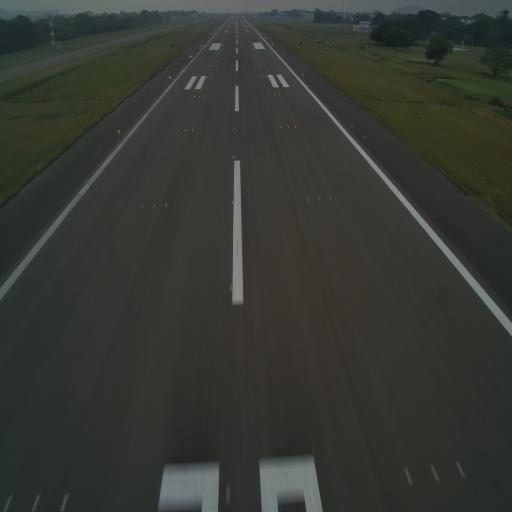off: (350, 121, 354, 128)
on: (229, 282, 234, 292), (116, 126, 122, 134), (140, 202, 145, 211), (317, 195, 322, 204), (231, 198, 236, 206), (152, 202, 157, 210), (306, 195, 311, 203), (232, 125, 236, 132), (164, 202, 168, 208), (329, 196, 333, 202), (231, 155, 235, 160), (287, 124, 290, 130), (294, 124, 297, 130), (184, 127, 187, 132), (192, 128, 195, 133), (178, 129, 180, 133), (280, 125, 282, 129)
